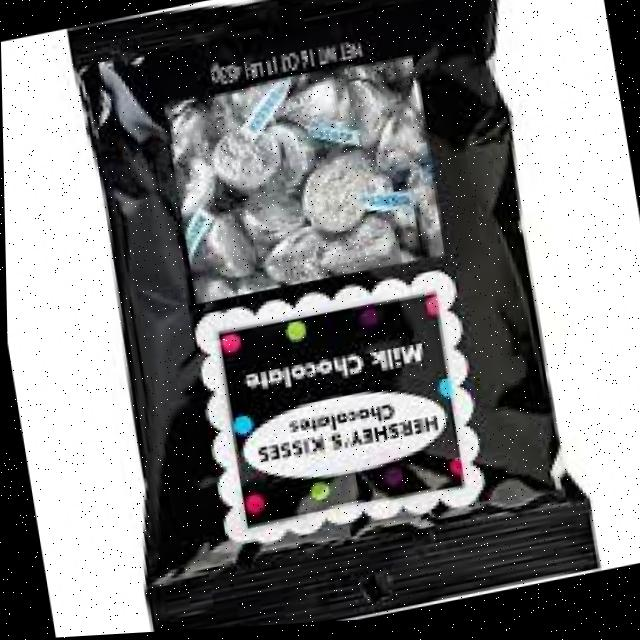kisses: (298, 146, 380, 242), (176, 209, 259, 299), (205, 118, 290, 200), (311, 215, 402, 281), (232, 182, 312, 257), (281, 74, 350, 155), (337, 68, 394, 154)
